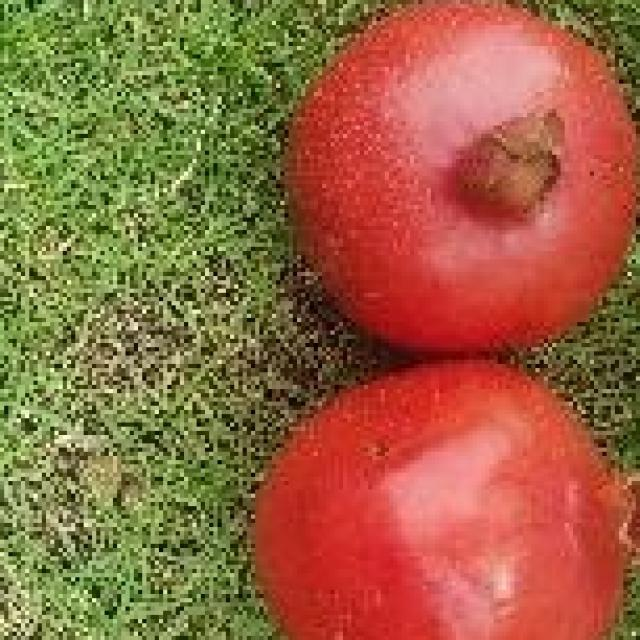Good_Pomegranate 50-60-days: (238, 0, 640, 640)
